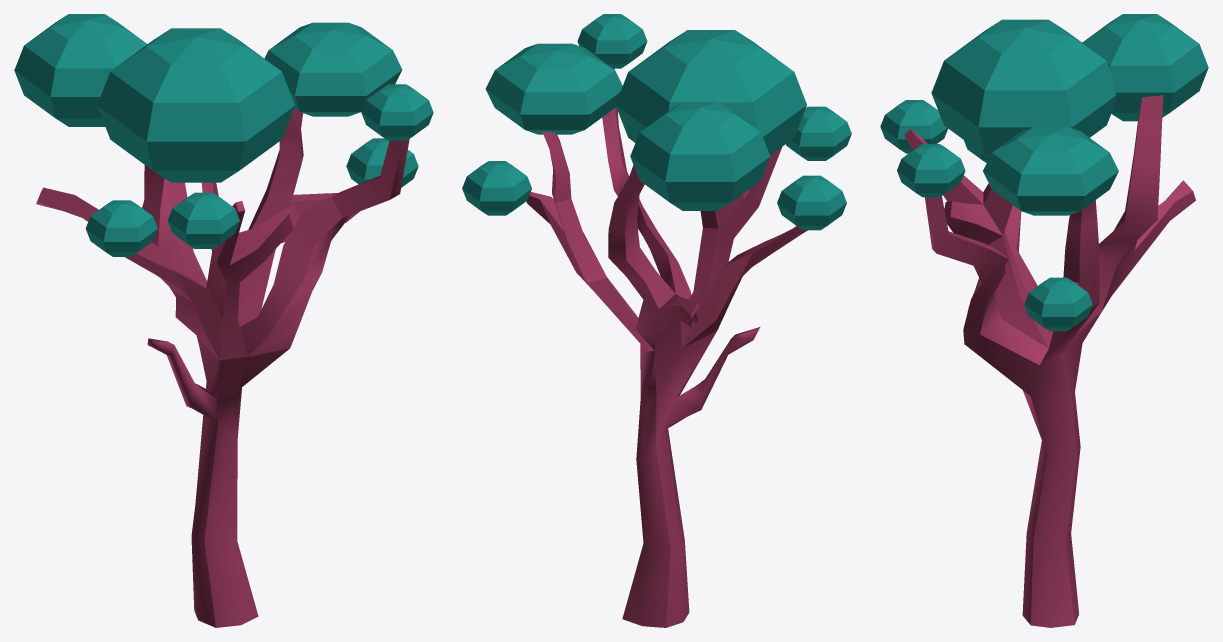
The model's file is arbol3.fbx.
3 views of the same model, side by side, from view 1: azimuth 30°, elevation 25°; view 2: azimuth 150°, elevation 25°; view 3: azimuth 270°, elevation 25° (orthographic). The views are drawn at different scales.
Visible parts, largest first — view 1: pCube1, Sphere.002, Sphere.007, Sphere.001, Sphere.005, Sphere.006, Sphere.008, Sphere.009; view 2: pCube1, Sphere.002, Sphere.007, Sphere.001, Sphere.005, Sphere.009, Sphere.008, Sphere.006; view 3: pCube1, Sphere.002, Sphere.001, Sphere.007, Sphere.009, Sphere.008, Sphere.006.
Boxes of the visible parts, x1,y1,x2,y2 form: pCube1: (36, 108, 409, 627); Sphere.002: (97, 28, 294, 182); Sphere.007: (14, 14, 147, 126); Sphere.001: (264, 22, 402, 116); Sphere.005: (85, 200, 157, 256); Sphere.006: (167, 192, 239, 248); Sphere.008: (361, 84, 433, 140); Sphere.009: (346, 138, 418, 187); pCube1: (526, 68, 807, 627); Sphere.002: (615, 30, 806, 155); Sphere.007: (630, 101, 770, 210); Sphere.001: (485, 43, 622, 134); Sphere.005: (777, 175, 846, 230); Sphere.009: (462, 161, 531, 215); Sphere.008: (577, 14, 647, 68); Sphere.006: (786, 106, 851, 160); pCube1: (904, 95, 1195, 627); Sphere.002: (931, 19, 1116, 157); Sphere.001: (983, 126, 1118, 215); Sphere.007: (1082, 14, 1208, 121); Sphere.009: (1024, 277, 1092, 331); Sphere.008: (897, 144, 965, 197); Sphere.006: (880, 100, 947, 153).
Size of the model in its own units: 142 by 234 by 123.
